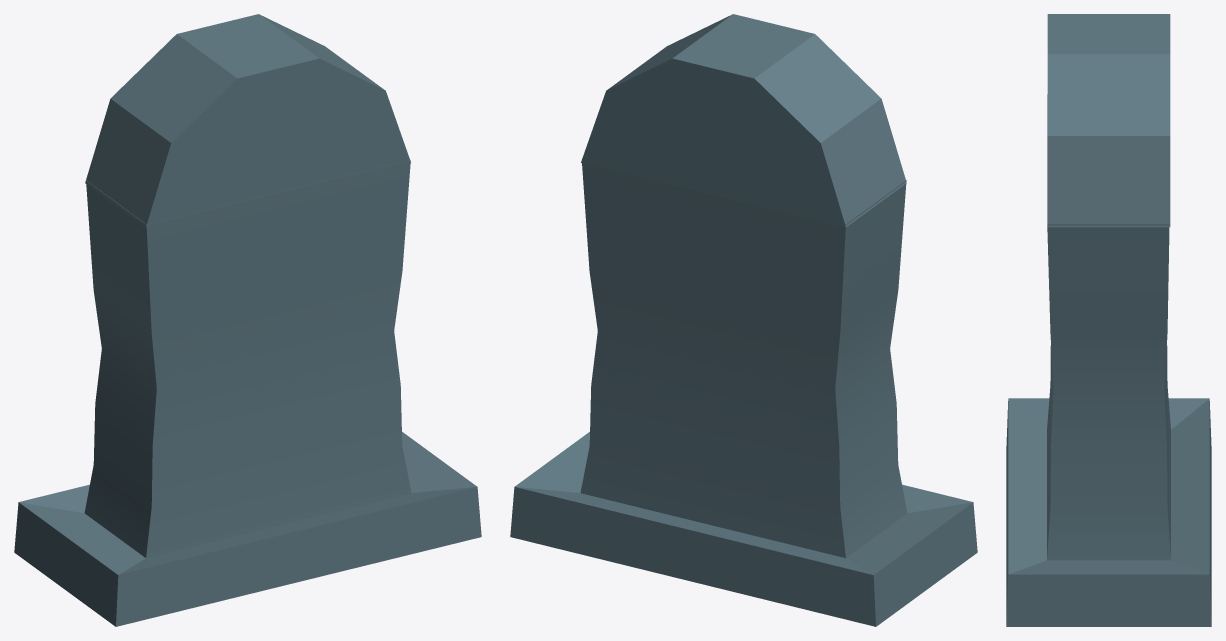
The model's file is tomb_1.fbx.
3 renders of one model, left to right at view 1: azimuth 30°, elevation 25°; view 2: azimuth 150°, elevation 25°; view 3: azimuth 270°, elevation 25°, orthographic.
Parts seen in each view (by area): view 1: grave_V1; view 2: grave_V1; view 3: grave_V1.
Boxes of the visible parts, x1,y1,x2,y2 form: grave_V1: (14,14,481,626); grave_V1: (510,14,977,626); grave_V1: (1006,14,1211,626).
Bounding box in the file's own units: 2.76 × 3.59 × 1.33.
